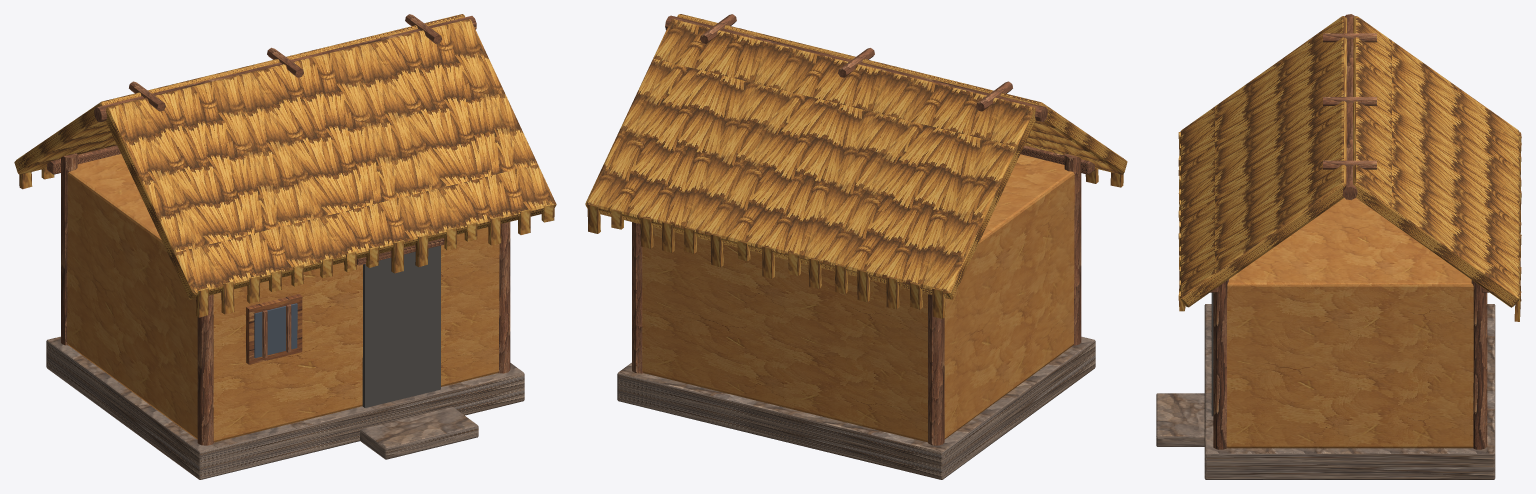
File: hut-staged_lod1.glb
3 views of the same model, side by side, from view 1: azimuth 30°, elevation 25°; view 2: azimuth 150°, elevation 25°; view 3: azimuth 270°, elevation 25° (orthographic). The views are drawn at different scales.
Visible parts, largest first — view 1: stage3_shell_merged, stage4_complete_merged, stage1_foundation_merged, stage2_frame_merged; view 2: stage4_complete_merged, stage3_shell_merged, stage1_foundation_merged, stage2_frame_merged; view 3: stage3_shell_merged, stage4_complete_merged, stage1_foundation_merged, stage2_frame_merged.
Boxes of the visible parts, x1,y1,x2,y2 form: stage3_shell_merged: (67,14,556,442); stage4_complete_merged: (14,14,554,407); stage1_foundation_merged: (46,336,524,479); stage2_frame_merged: (47,145,510,445); stage4_complete_merged: (585,19,1123,318); stage3_shell_merged: (642,14,1127,442); stage1_foundation_merged: (617,336,1095,479); stage2_frame_merged: (632,145,1094,445); stage3_shell_merged: (1180,14,1473,448); stage4_complete_merged: (1178,16,1521,416); stage1_foundation_merged: (1156,304,1495,479); stage2_frame_merged: (1210,279,1489,449).
Bounding box in the file's own units: 3.8 × 3.16 × 3.4.
8 materials, 6 textured.
